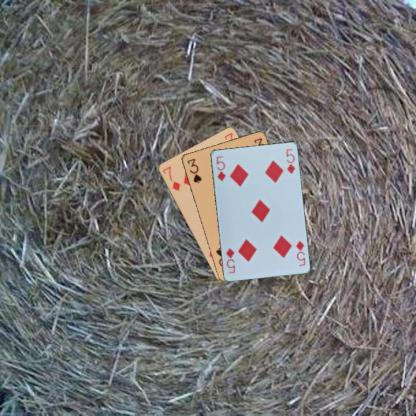3s: (184, 156, 203, 184)
5d: (293, 238, 306, 267), (214, 153, 226, 182)
7d: (160, 163, 181, 192)
